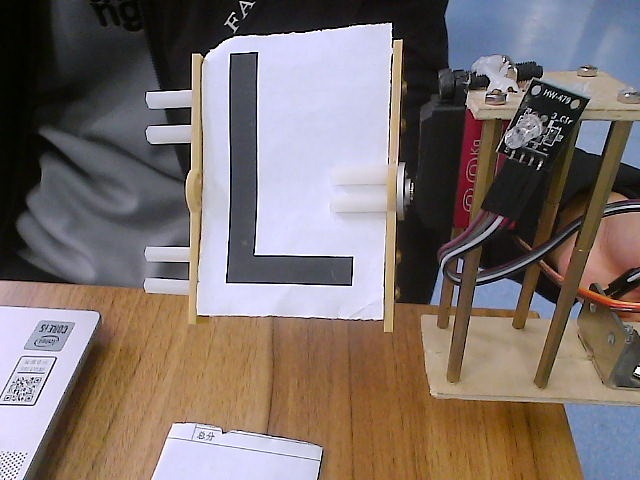L: (105, 8, 450, 366)
